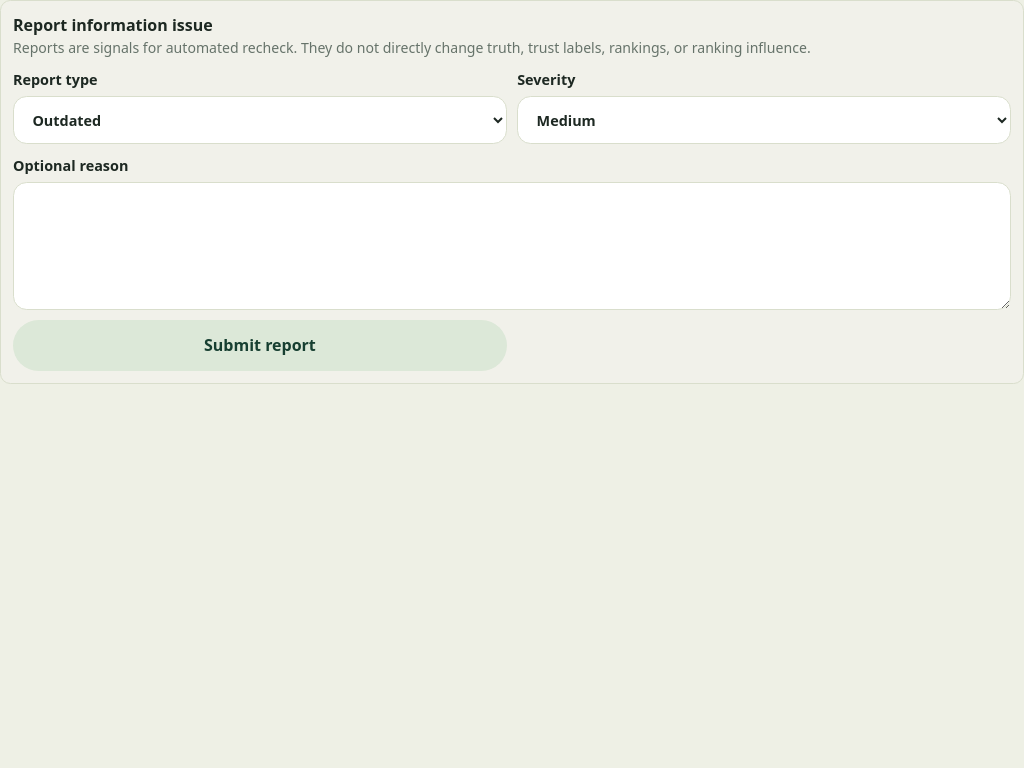
Scenario: UserReportControl › submits a report signal and renders backend status without mutation claims
Select "Outdated" in the dropdown labelled "Report type" at (260, 120), box [13,96,507,144]
Type "Looks stale." into the text box labelled "Optional reason".
click(512, 246); type("Looks stale.")  # box [13,182,1011,310]
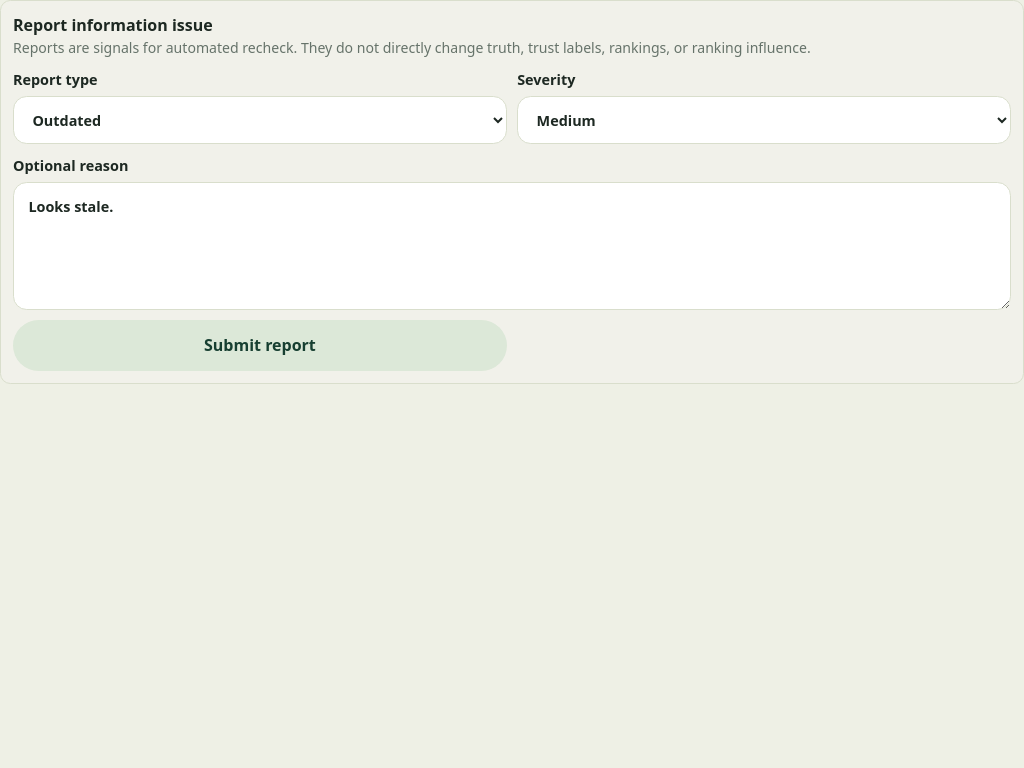
Click the button "Submit report".
click(260, 345)  # box [13,320,507,370]
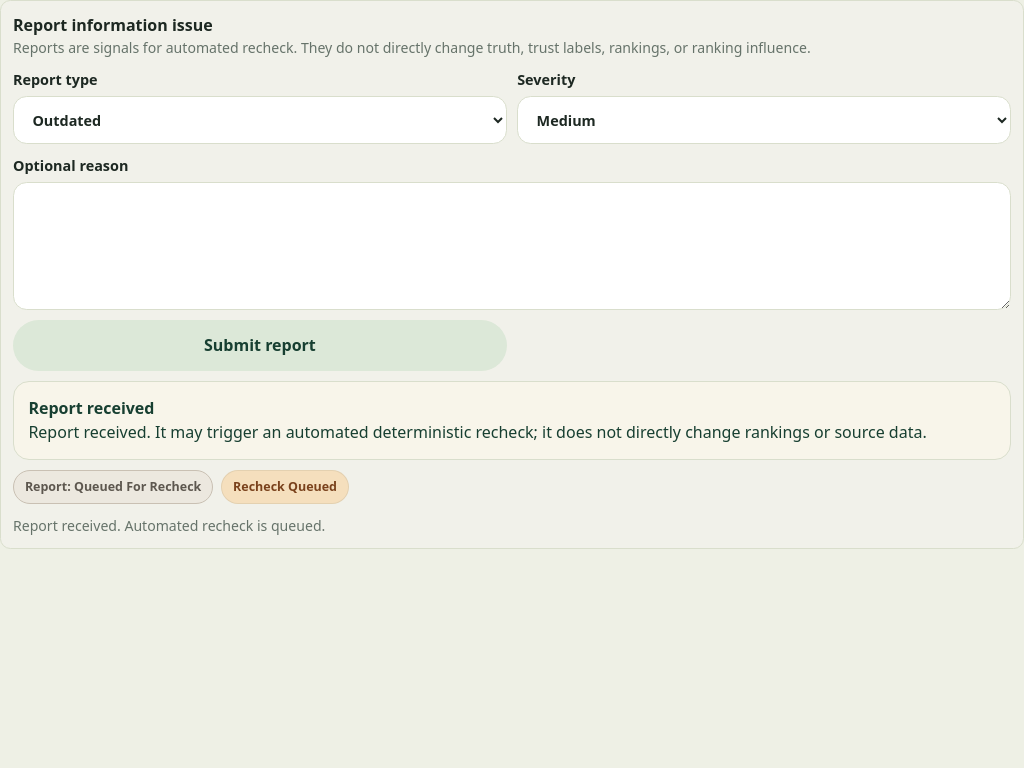
Result: the text "Report received" is shown at [28,397,154,419]
Result: the text "Recheck queued" is shown at [221,470,349,504]
Result: the text "does not directly change rankings" is shown at [28,421,927,443]
